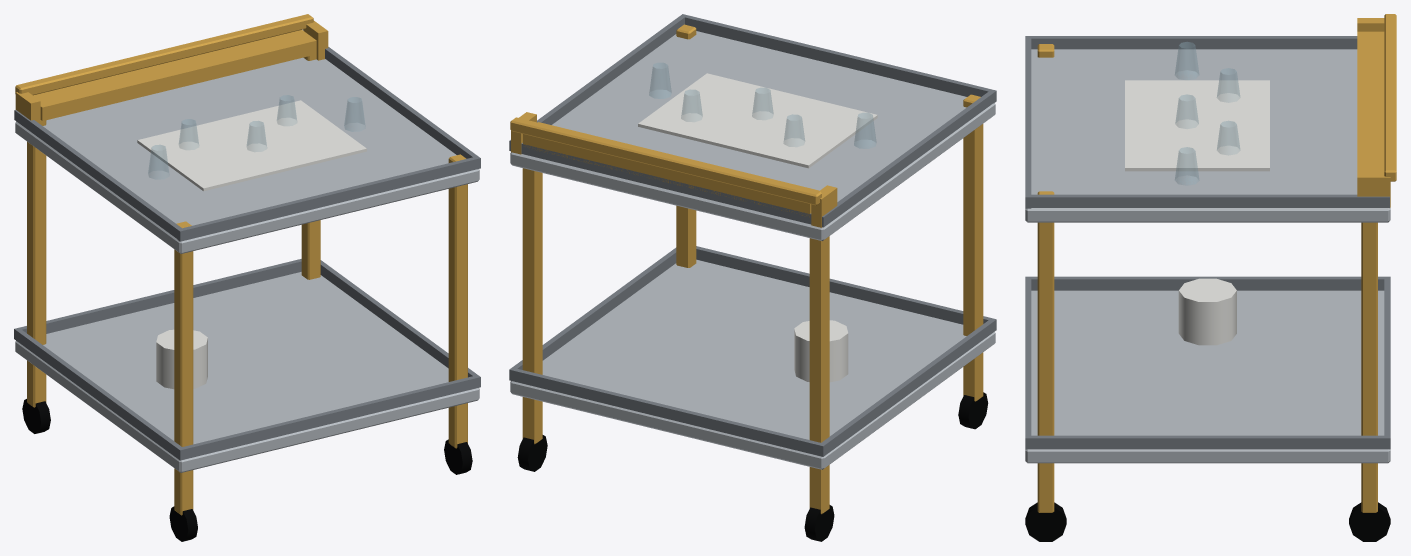
Rendered from cart_catering.glb.
The picture shows the model from 3 angles, left to right: view 1: azimuth 30°, elevation 25°; view 2: azimuth 150°, elevation 25°; view 3: azimuth 270°, elevation 25°; orthographic projection. The views are drawn at different scales.
Parts seen in each view (by area): view 1: cart_catering; view 2: cart_catering; view 3: cart_catering.
Part boxes in pixels (bbox=[...]): cart_catering: bbox=[14, 14, 480, 541]; cart_catering: bbox=[509, 14, 996, 541]; cart_catering: bbox=[1025, 14, 1396, 541].
Size of the model in its own units: 0.92 by 0.9926 by 0.895.
